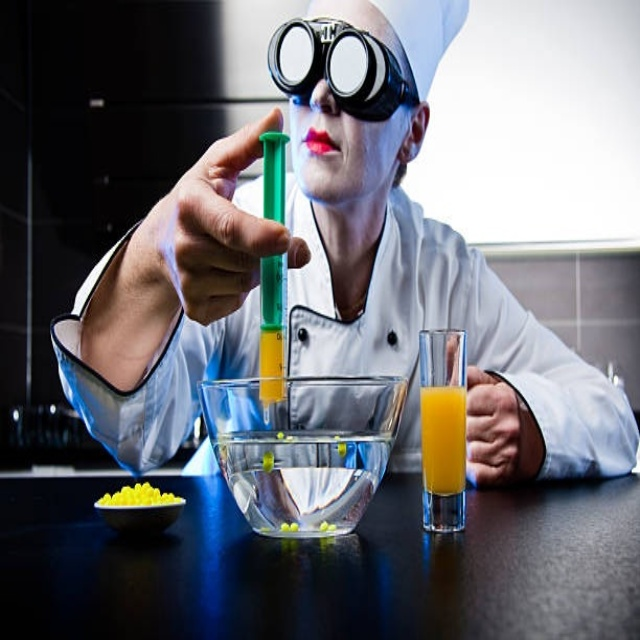Gafas: (266, 17, 419, 122)
Sin_guantes: (158, 105, 309, 330), (462, 366, 529, 487)
Sin_mascara: (294, 125, 350, 190)
